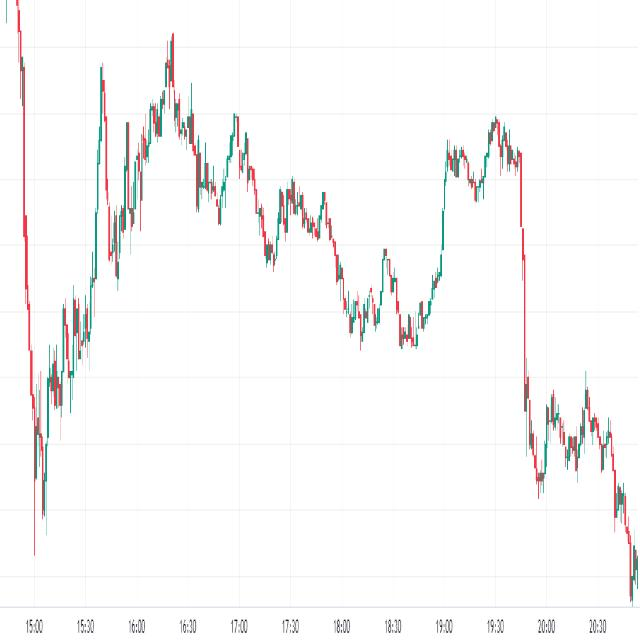Ascending-Triangle: (27, 296, 109, 583)
Double-Top: (426, 84, 532, 309)
Falling-Wedge: (86, 1, 425, 376), (481, 100, 525, 179)
Head-Shoulders: (114, 18, 278, 282)
